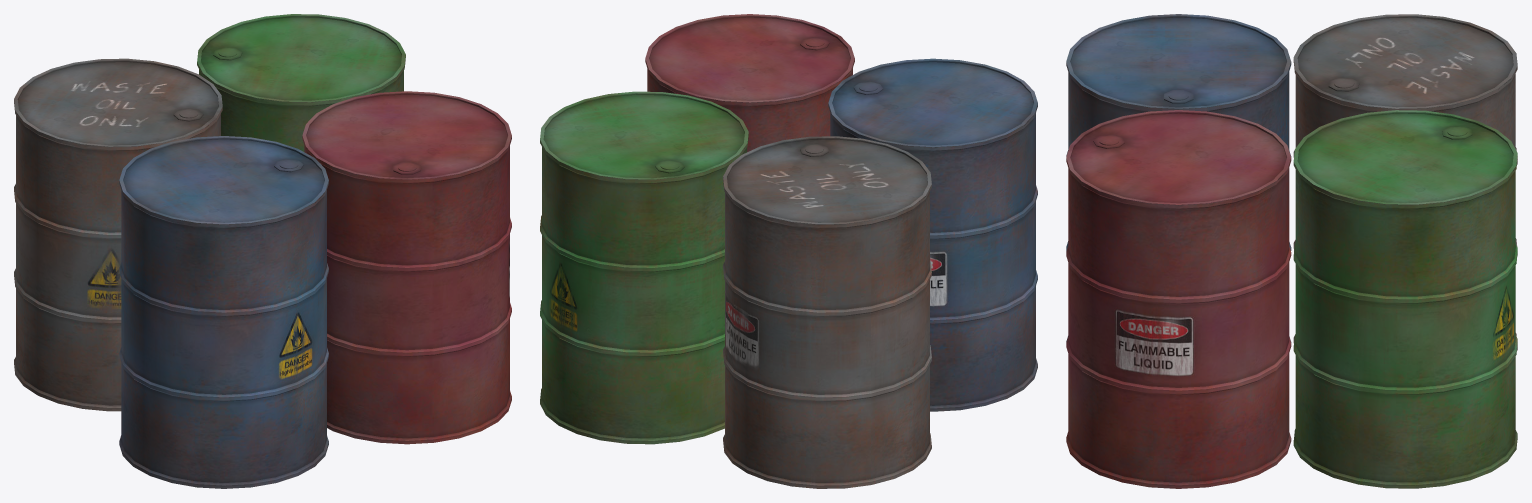
The model's file is OilBarrels.obj.
3 renders of one model, left to right at view 1: azimuth 30°, elevation 25°; view 2: azimuth 150°, elevation 25°; view 3: azimuth 270°, elevation 25°, orthographic. The views are drawn at different scales.
Visible parts, largest first — view 1: Mesh1 Barrel01_1 Model, Mesh2 Barrel02_1 Model, Mesh3 Barrel03_1 Model, Mesh4 Barrel04_1 Model; view 2: Mesh3 Barrel03_1 Model, Mesh4 Barrel04_1 Model, Mesh1 Barrel01_1 Model, Mesh2 Barrel02_1 Model; view 3: Mesh2 Barrel02_1 Model, Mesh4 Barrel04_1 Model, Mesh1 Barrel01_1 Model, Mesh3 Barrel03_1 Model.
Part boxes in pixels (box(x1,y1,x2,y2)): Mesh1 Barrel01_1 Model: box(119, 136, 328, 488); Mesh2 Barrel02_1 Model: box(302, 91, 511, 444); Mesh3 Barrel03_1 Model: box(14, 58, 222, 411); Mesh4 Barrel04_1 Model: box(197, 14, 405, 151); Mesh3 Barrel03_1 Model: box(723, 136, 931, 488); Mesh4 Barrel04_1 Model: box(540, 91, 748, 444); Mesh1 Barrel01_1 Model: box(828, 58, 1037, 411); Mesh2 Barrel02_1 Model: box(645, 14, 854, 152); Mesh2 Barrel02_1 Model: box(1066, 110, 1291, 488); Mesh4 Barrel04_1 Model: box(1293, 110, 1517, 488); Mesh1 Barrel01_1 Model: box(1066, 14, 1291, 342); Mesh3 Barrel03_1 Model: box(1293, 14, 1517, 350).
Size of the model in its own units: 1.12 by 0.78 by 1.12.
4 materials, 4 textured.
